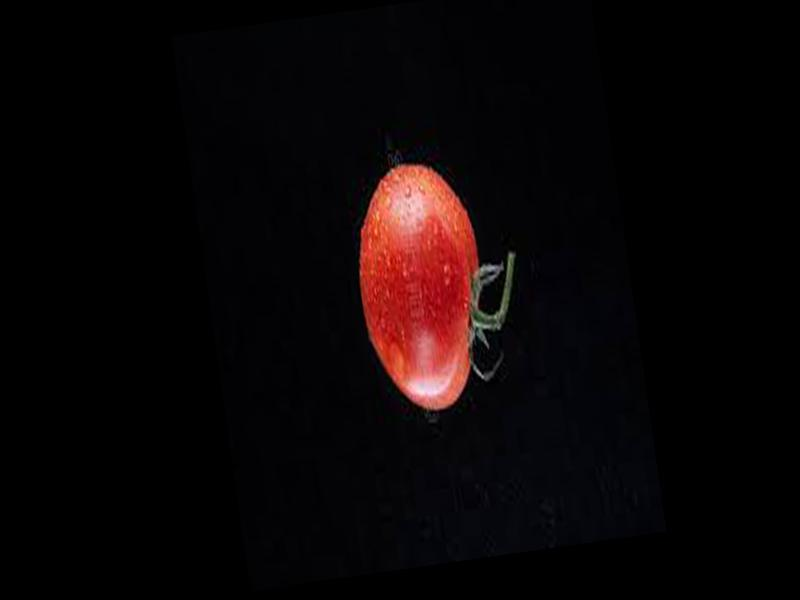Tomato: (343, 155, 499, 417)
